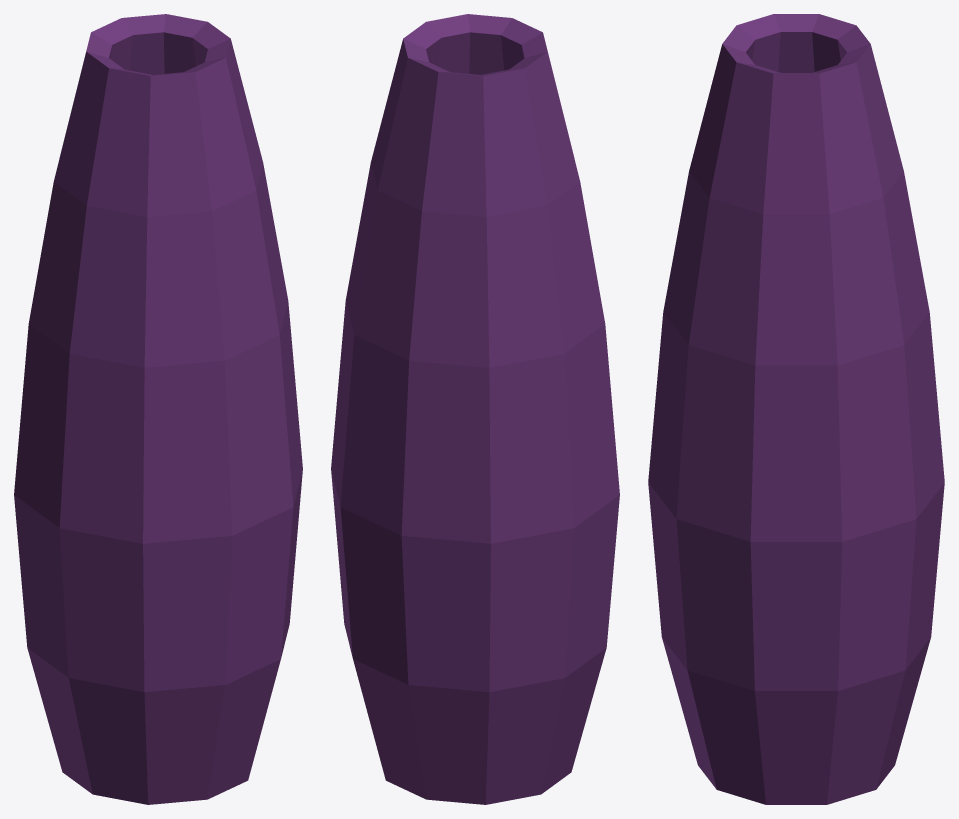
File: vase03.gltf
3 renders of one model, left to right at view 1: azimuth 30°, elevation 25°; view 2: azimuth 150°, elevation 25°; view 3: azimuth 270°, elevation 25°, orthographic.
Visible parts, largest first — view 1: Cylinder; view 2: Cylinder; view 3: Cylinder.
Part boxes in pixels (x1,y1,x2,y2): Cylinder: (14,14,302,804); Cylinder: (331,14,619,804); Cylinder: (648,14,944,804).
Bounding box in the file's own units: 0.0823 × 0.2323 × 0.0865.
Materials: 1 (1 with a texture image).
